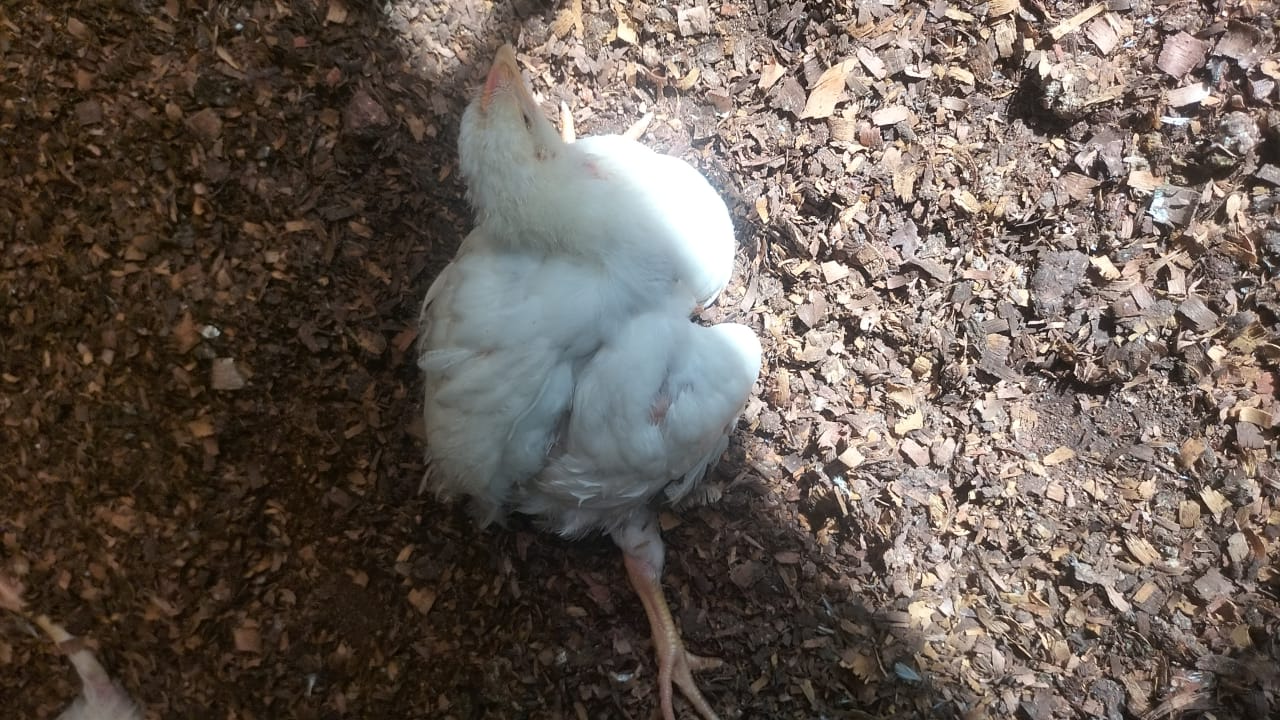Unhealthy: (376, 38, 789, 712)
